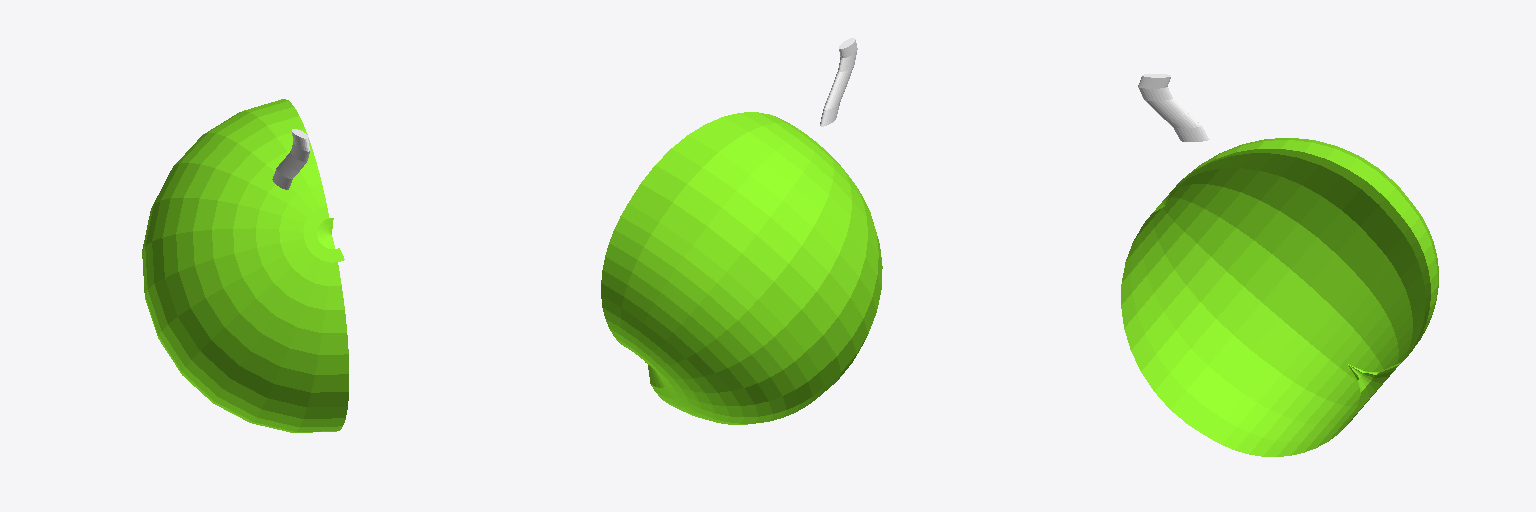
The model's file is melonlado_b.obj.
3 renders of one model, left to right at view 1: azimuth 30°, elevation 25°; view 2: azimuth 150°, elevation 25°; view 3: azimuth 270°, elevation 25°, orthographic.
Parts seen in each view (by area): view 1: Mesh2 apple1 apple1_1 _Apples1 Model, Mesh1 stem1 apple1_1 _Apples1 Model; view 2: Mesh2 apple1 apple1_1 _Apples1 Model, Mesh1 stem1 apple1_1 _Apples1 Model; view 3: Mesh2 apple1 apple1_1 _Apples1 Model, Mesh1 stem1 apple1_1 _Apples1 Model.
Boxes of the visible parts, x1=… form: Mesh2 apple1 apple1_1 _Apples1 Model: x1=142, y1=99, x2=348, y2=432; Mesh1 stem1 apple1_1 _Apples1 Model: x1=272, y1=129, x2=310, y2=189; Mesh2 apple1 apple1_1 _Apples1 Model: x1=601, y1=112, x2=882, y2=424; Mesh1 stem1 apple1_1 _Apples1 Model: x1=820, y1=38, x2=857, y2=126; Mesh2 apple1 apple1_1 _Apples1 Model: x1=1121, y1=138, x2=1438, y2=456; Mesh1 stem1 apple1_1 _Apples1 Model: x1=1138, y1=74, x2=1209, y2=141.
Bounding box in the file's own units: 0.0376 × 0.0673 × 0.0564.